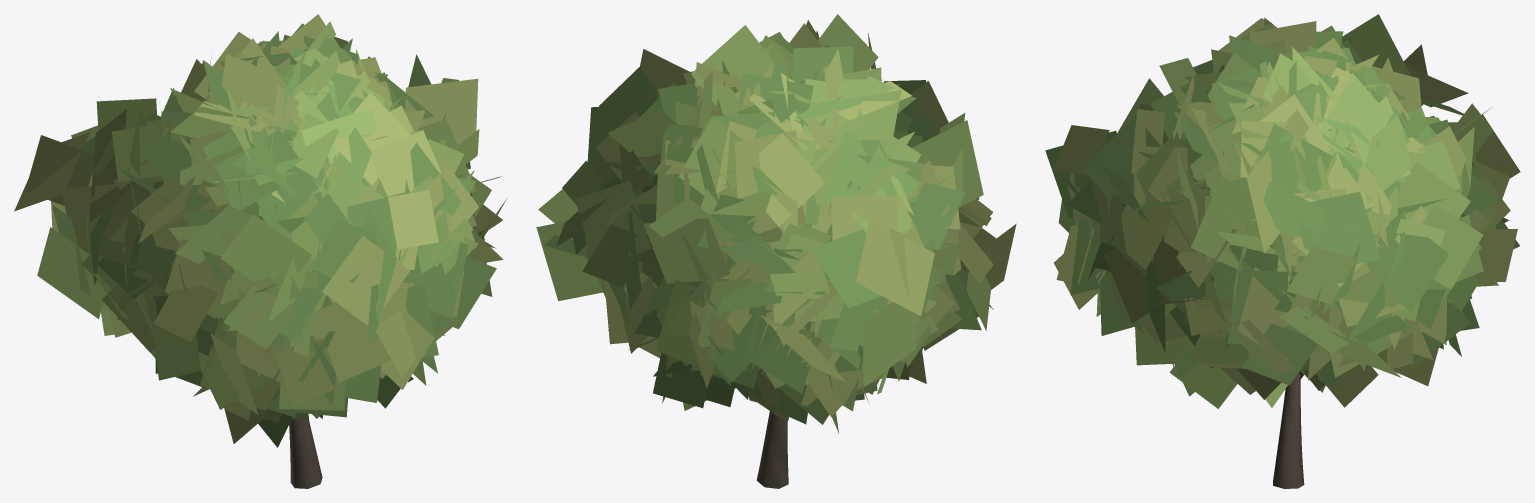
The model's file is maple_0.glb.
3 renders of one model, left to right at view 1: azimuth 30°, elevation 25°; view 2: azimuth 150°, elevation 25°; view 3: azimuth 270°, elevation 25°, orthographic.
Visible parts, largest first — view 1: maple_0; view 2: maple_0; view 3: maple_0.
Boxes of the visible parts, left/top/right/bottom form: maple_0: left=14, top=14, right=506, bottom=488; maple_0: left=536, top=14, right=1016, bottom=488; maple_0: left=1045, top=14, right=1520, bottom=488.
Bounding box in the file's own units: 1 × 1 × 0.9534.
